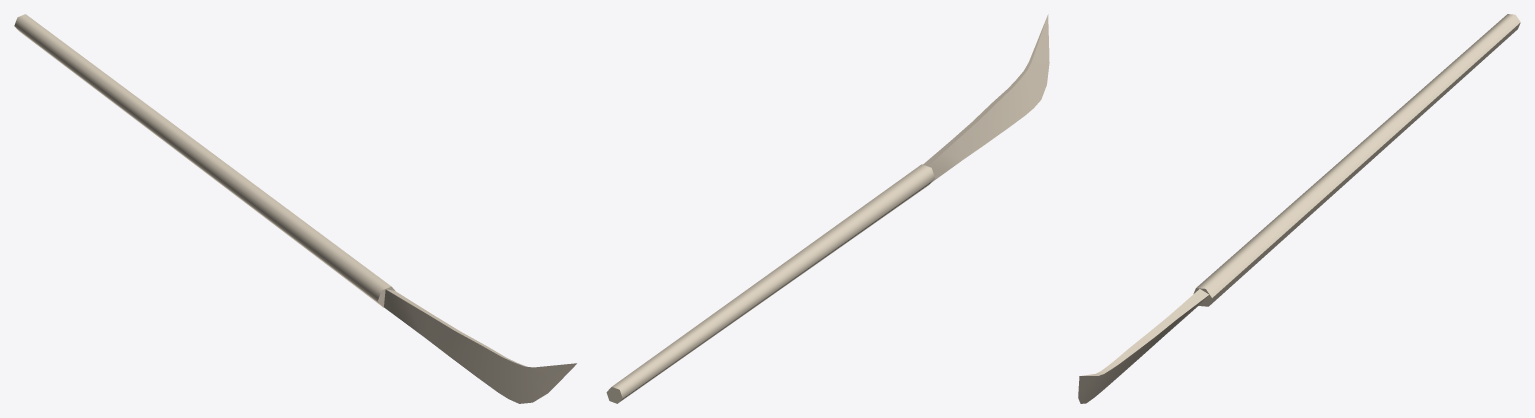
Rendered from weapon-base.glb.
3 renders of one model, left to right at view 1: azimuth 30°, elevation 25°; view 2: azimuth 150°, elevation 25°; view 3: azimuth 330°, elevation 25°, orthographic. The views are drawn at different scales.
Size of the model in its own units: 0.1871 by 0.1741 by 2.63.
